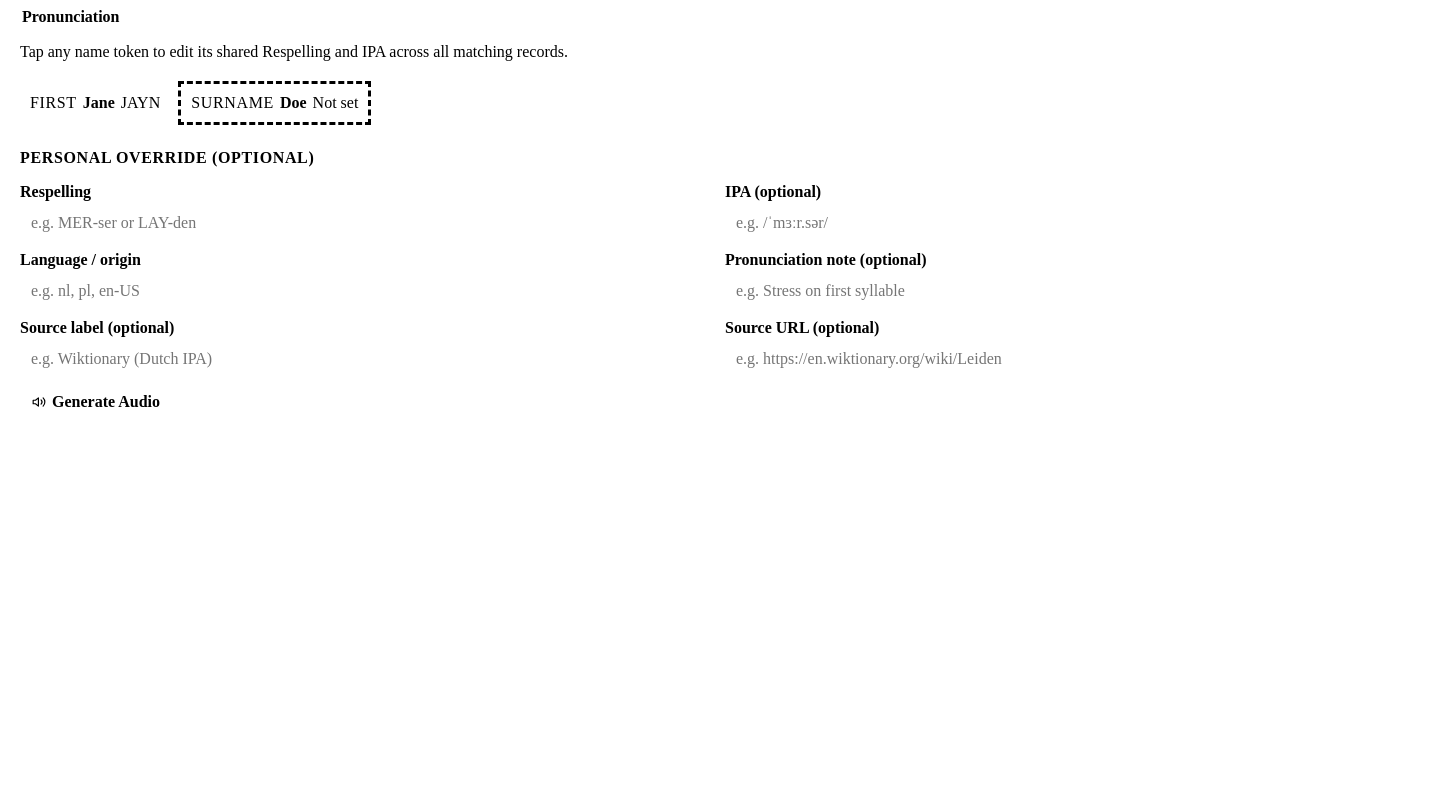
it: PronunciationEditorSection and pronunciationDraft error, toggle, and audio-generation flows › toggles token chips, shows shared-save errors and clears them on Cancel, and guards empty/failed audio generation
The width and height of the screenshot is (1440, 810).
Later steps or results of the test are not shown.
Click the button "First Jane JAYN".
click(95, 103)  # box 20,81 -> 170,125
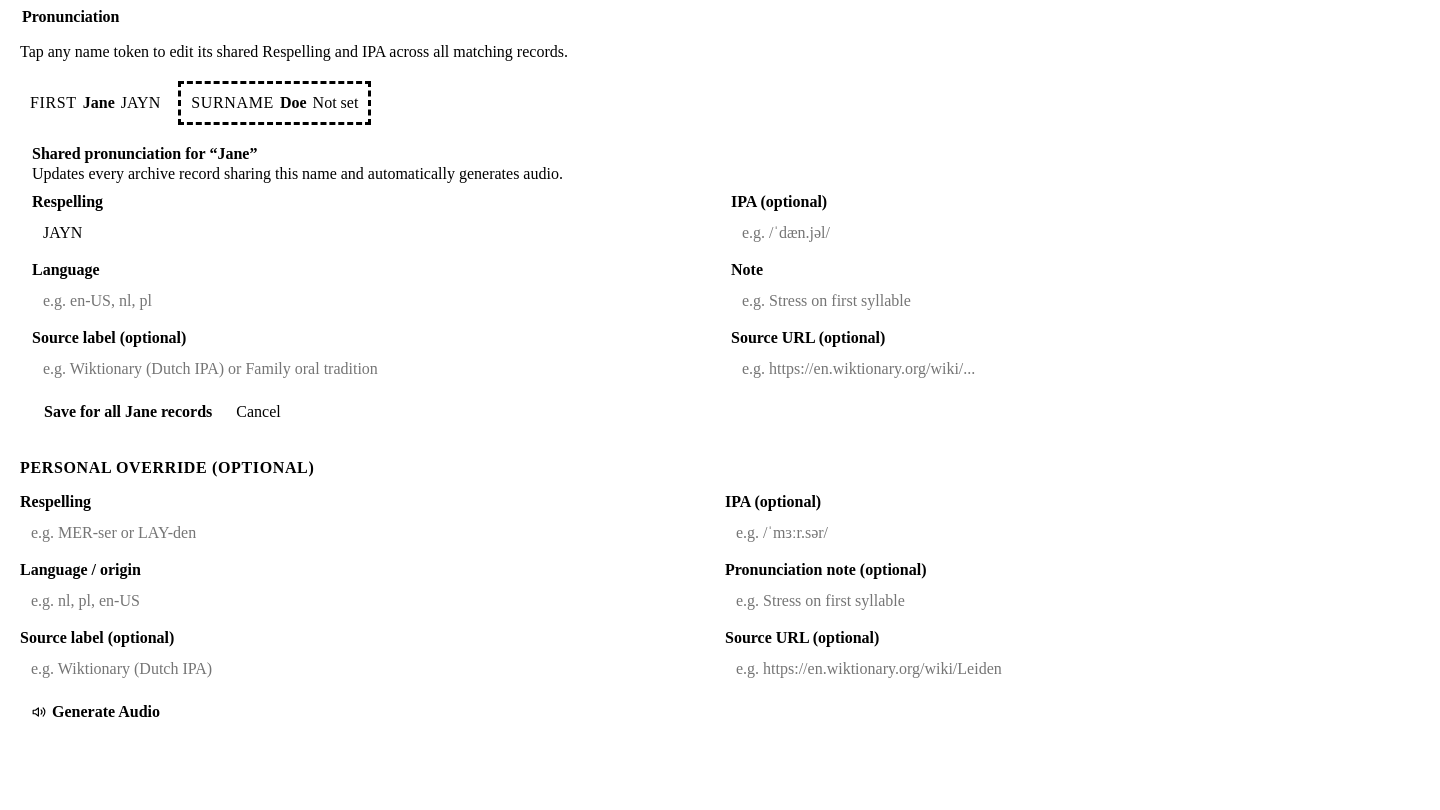
Result: the element with class "wiki-pronunciation-shared-editor" is shown at 20,135 -> 1420,435
Click the button "First Jane JAYN".
click(95, 103)  # box 20,81 -> 170,125
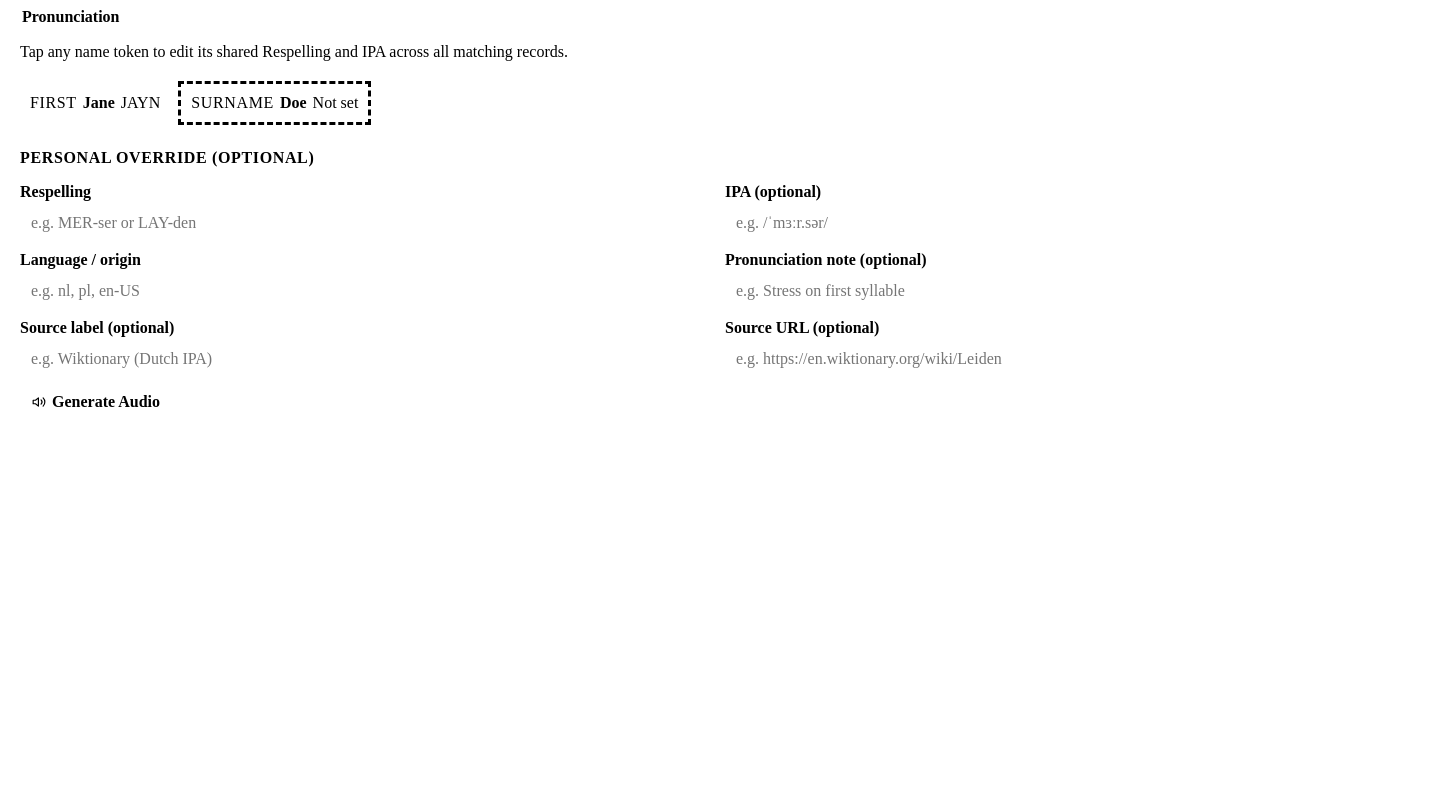
Result: the element with class "wiki-pronunciation-shared-editor" is gone
Click the button "First Jane JAYN".
click(95, 103)  # box 20,81 -> 170,125
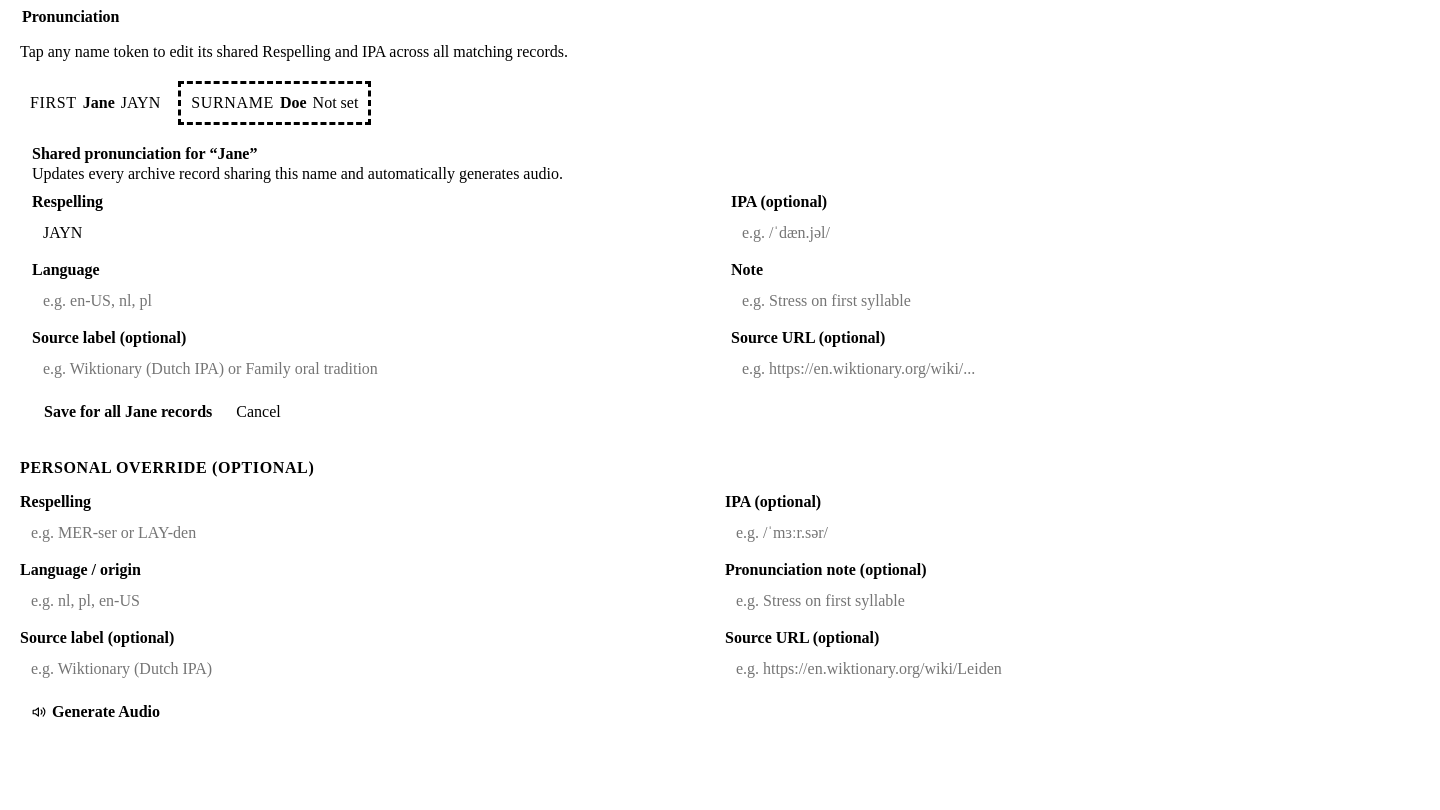
Click the button with class "wiki-pronunciation-shared-save-btn".
click(128, 412)  # box 32,397 -> 224,427
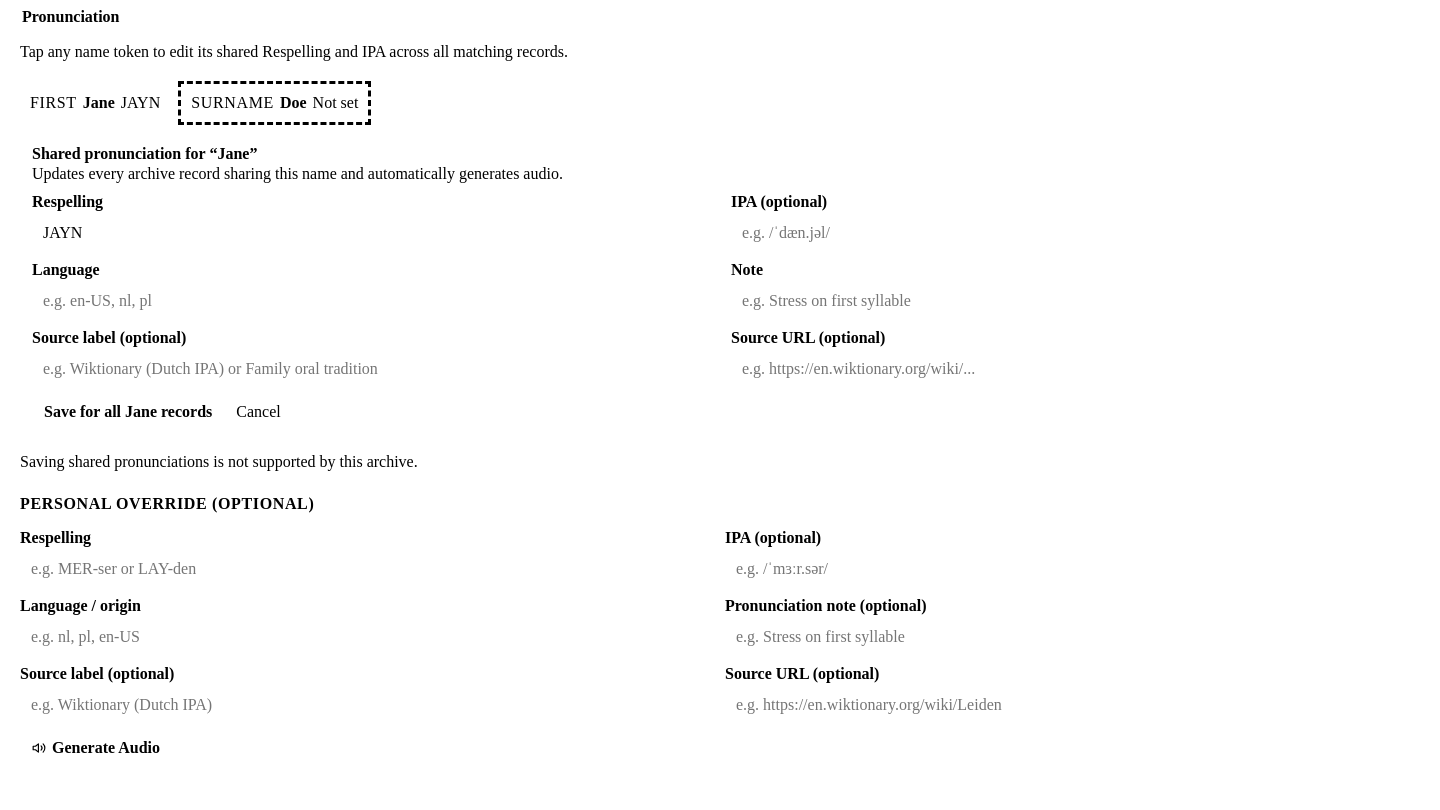
Result: the message "Saving shared pronunciations is not supported by this archive." is shown at 20,453 -> 418,470
Click the button "Cancel".
click(258, 412)  # box 232,398 -> 285,426
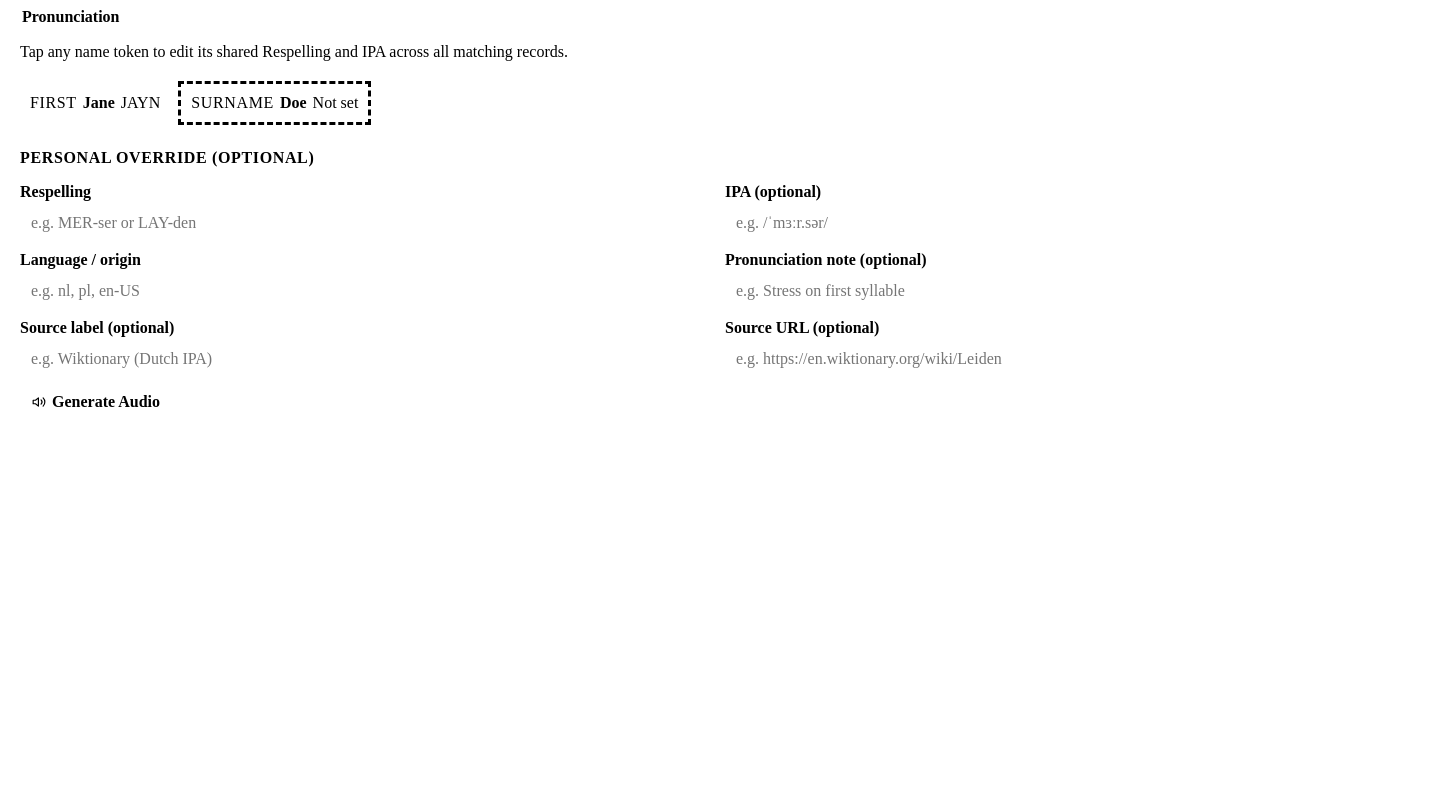
Result: the element with class "wiki-pronunciation-shared-editor" is gone
Result: the message "Saving shared pronunciations is not supported by this archive." is gone
